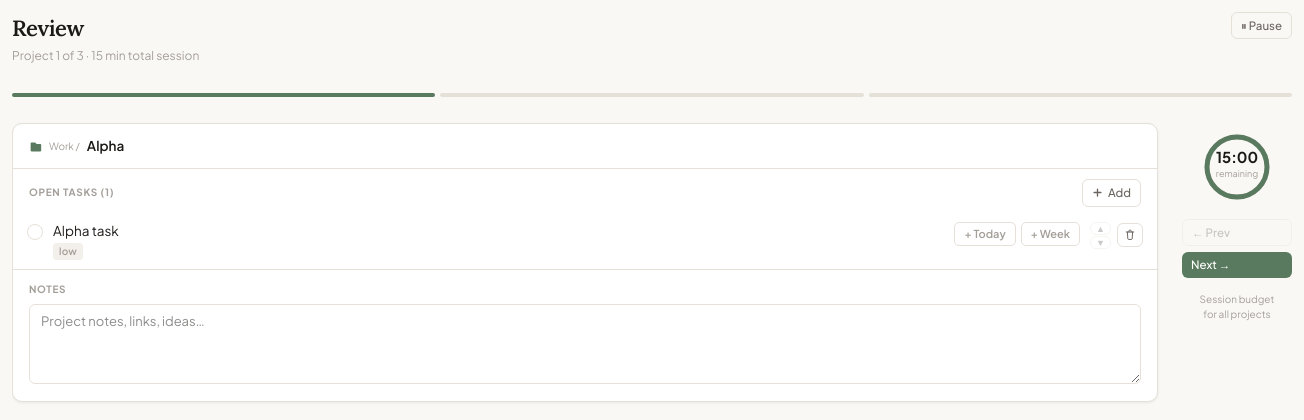
Test case: ReviewView next-project hotkey › renders Finish button on last project and completes session on click
Press Arrowright Arrowright
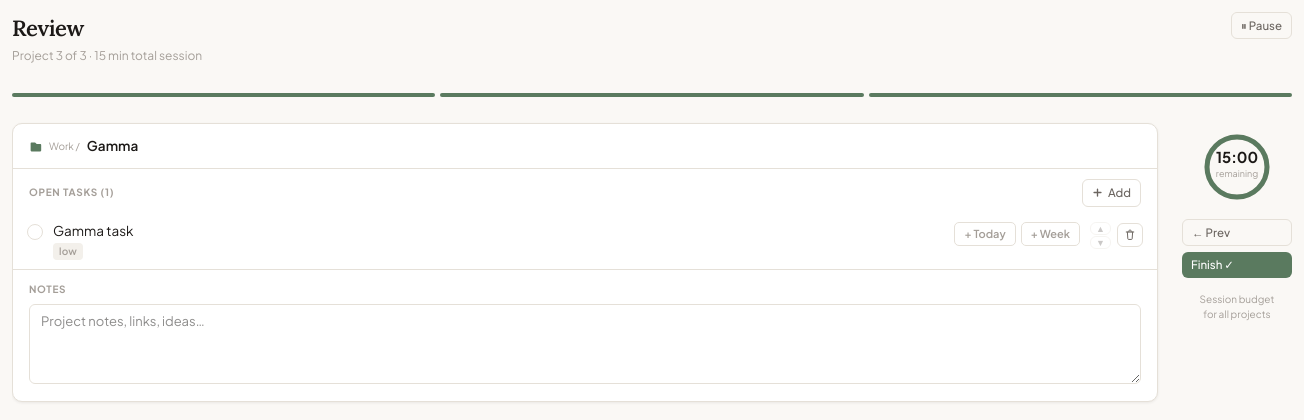
Now the button "Finish ✓" is shown
Click the button "Finish ✓" at x=1237, y=265, box [1182,252,1292,278]
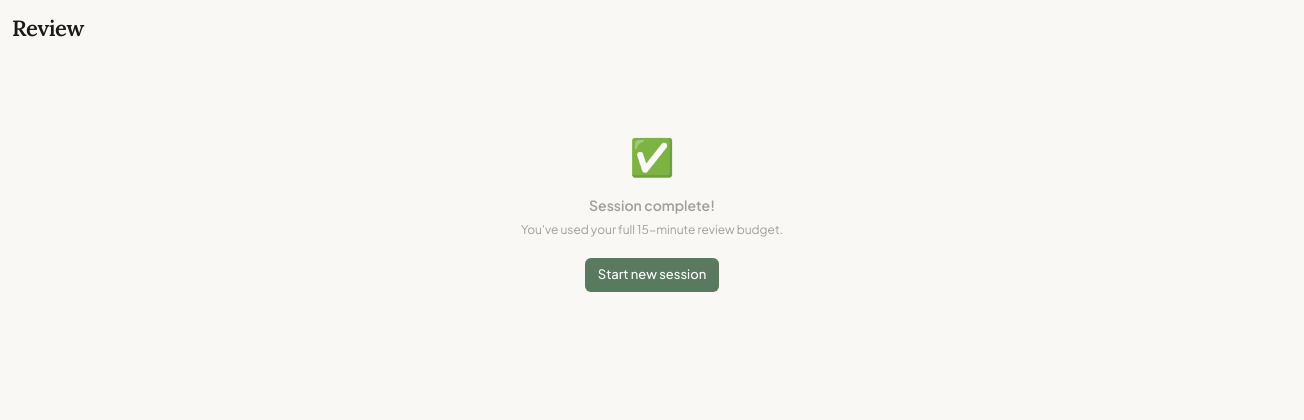
Now the text "Session complete!" is shown, box [589,196,715,214]
